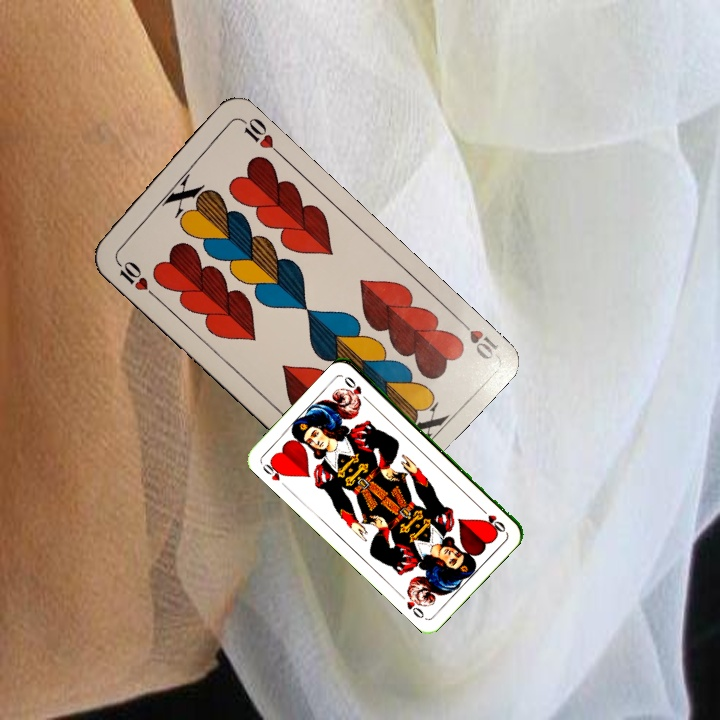H10: (452, 313, 501, 362), (110, 253, 158, 299)
HO: (258, 456, 290, 491), (476, 503, 508, 535)
